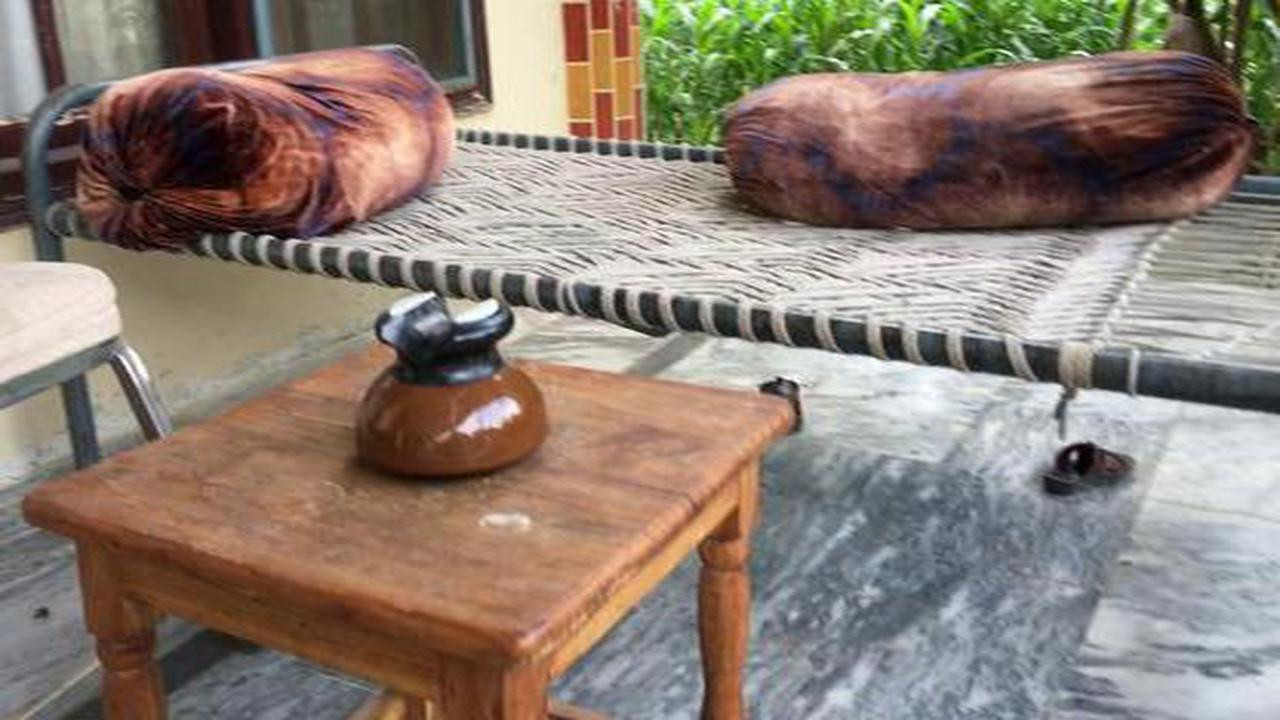insulator_pin: (339, 272, 557, 492)
